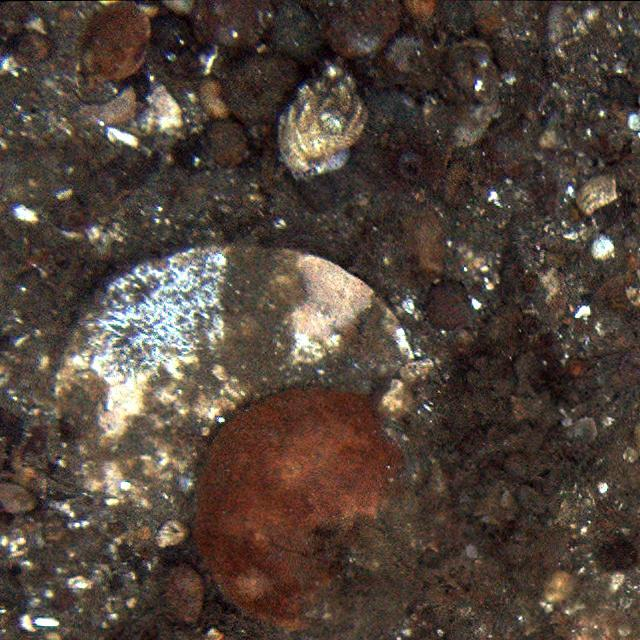whelk: (288, 67, 366, 166)
